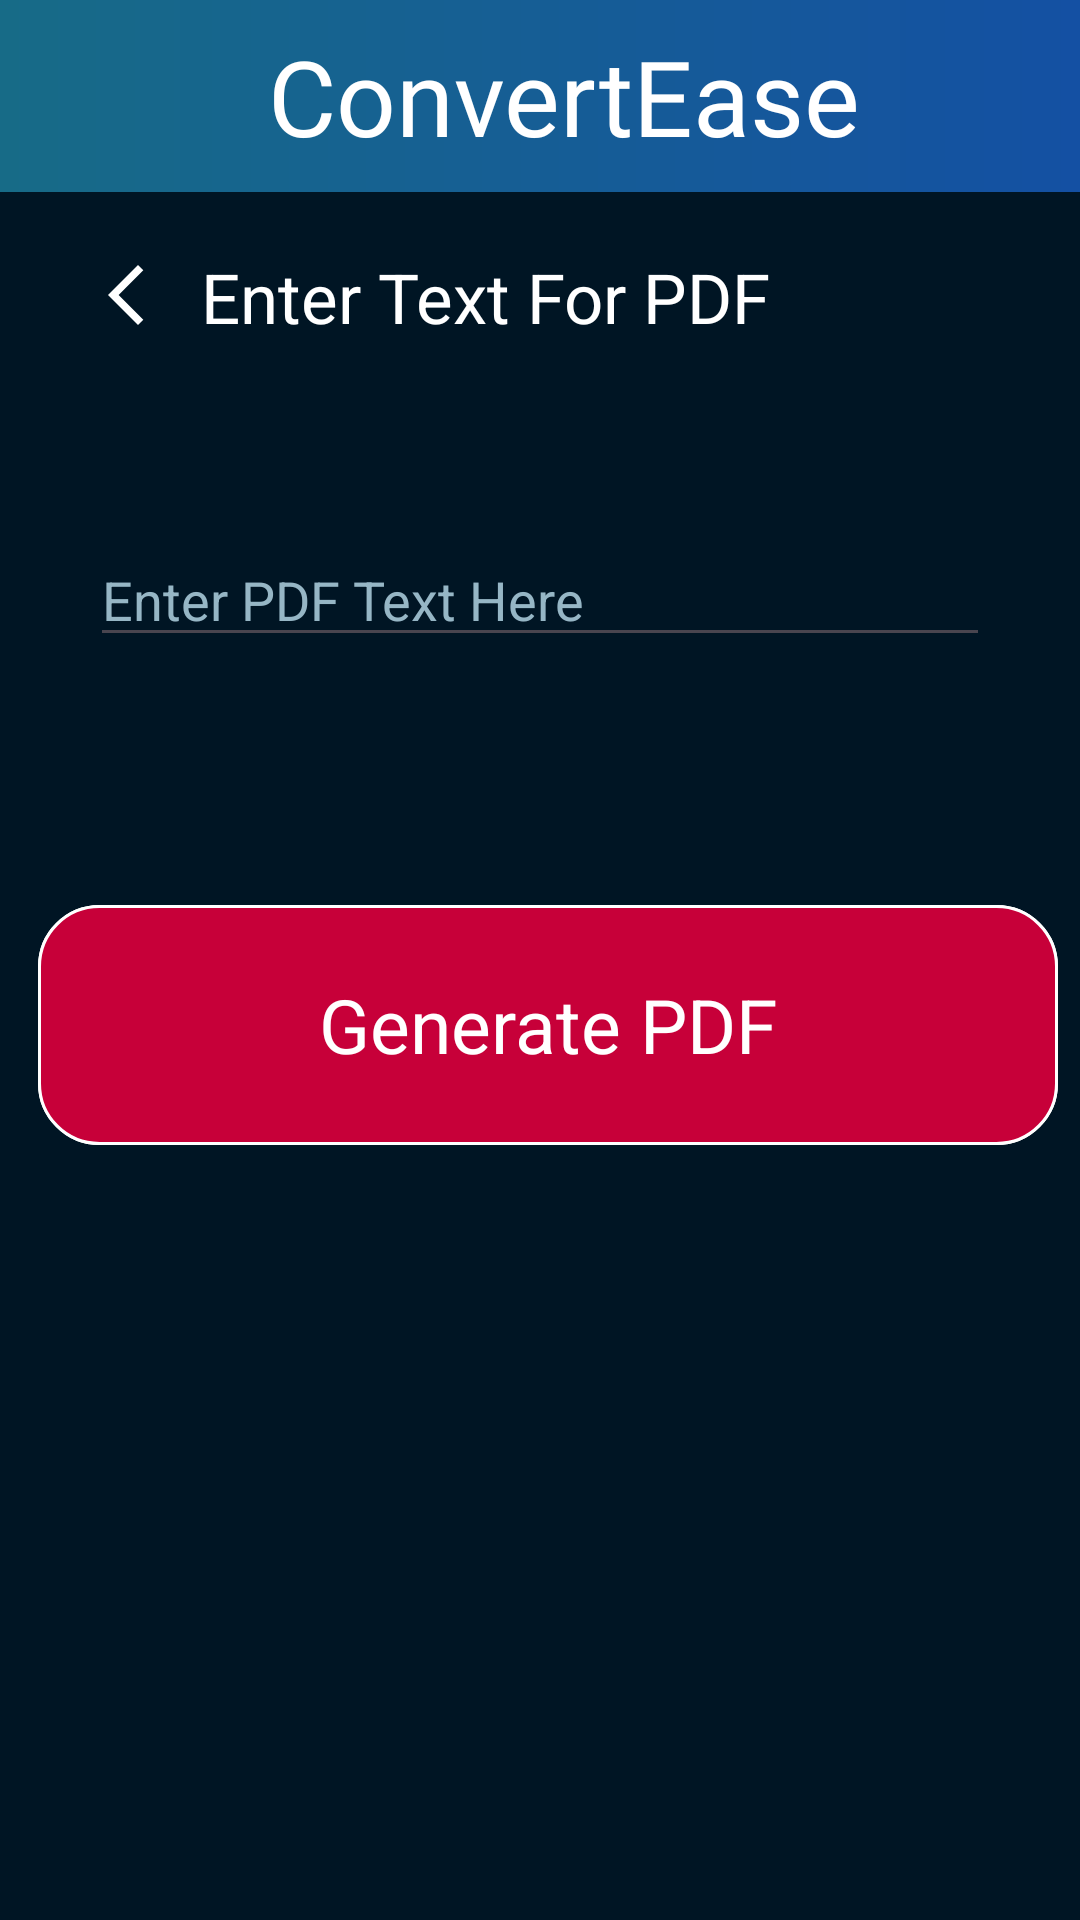

Screen size 1080×1920. Icon name, then its box in pixels as (x1, y1, x2, y2):
arrow back: (108, 265, 143, 325)
